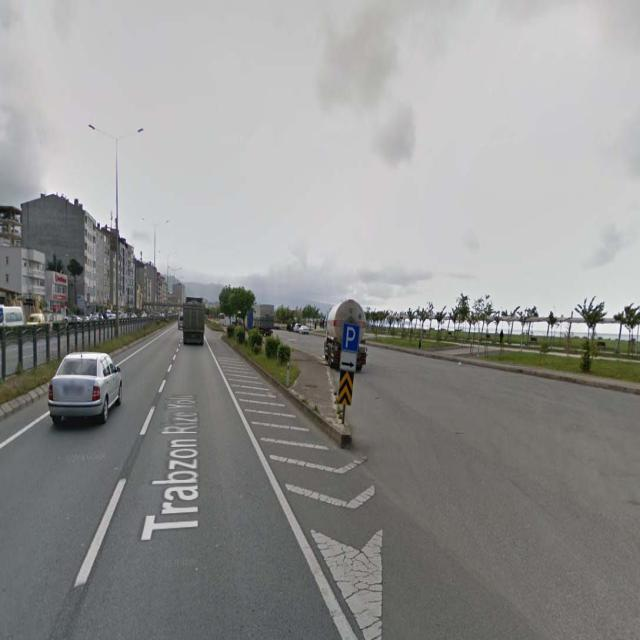park: (343, 324, 358, 351)
